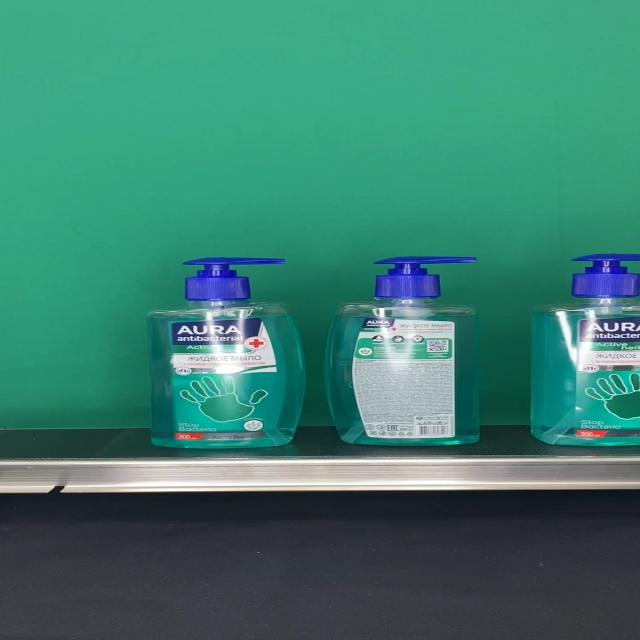Bottle: (146, 258, 305, 449), (325, 257, 482, 446)
Cap: (184, 258, 286, 301), (375, 257, 479, 298)
